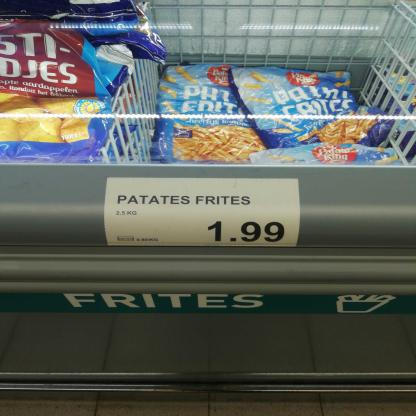prtg: (103, 178, 303, 248)
